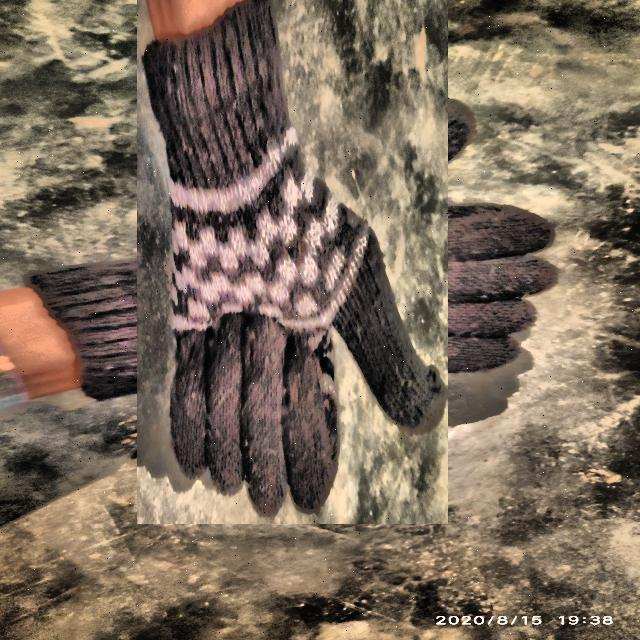gloved: (77, 36, 507, 466)
